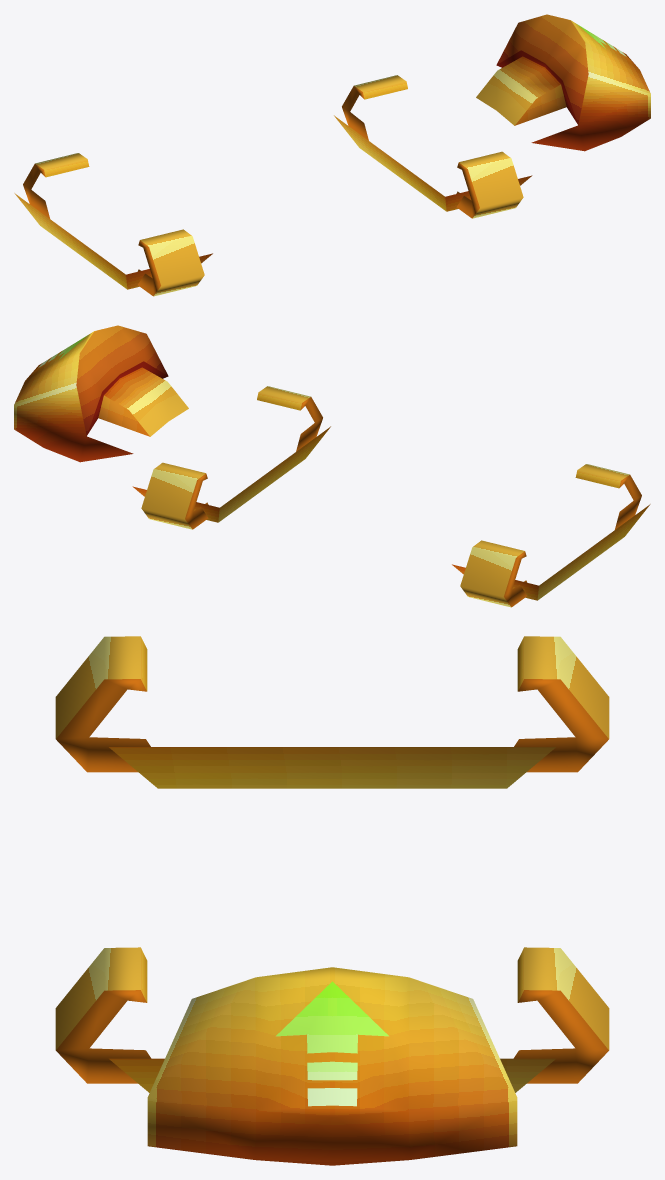
Rendered from SuperHero_Power1.glb.
3 renders of one model, top to bottom at view 1: azimuth 30°, elevation 25°; view 2: azimuth 150°, elevation 25°; view 3: azimuth 270°, elevation 25°, orthographic. The views are drawn at different scales.
Visible parts, largest first — view 1: SuperHero_Power1; view 2: SuperHero_Power1; view 3: SuperHero_Power1.
Part boxes in pixels (box(x1,y1,x2,y2)): SuperHero_Power1: box(14, 14, 650, 296); SuperHero_Power1: box(14, 325, 650, 607); SuperHero_Power1: box(55, 636, 609, 1165).
Size of the model in its own units: 7.22 by 1.47 by 3.11.
Materials: 1 (1 with a texture image).
